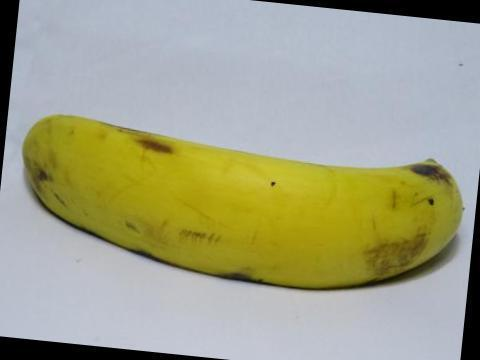freshripe: (16, 104, 464, 299)
